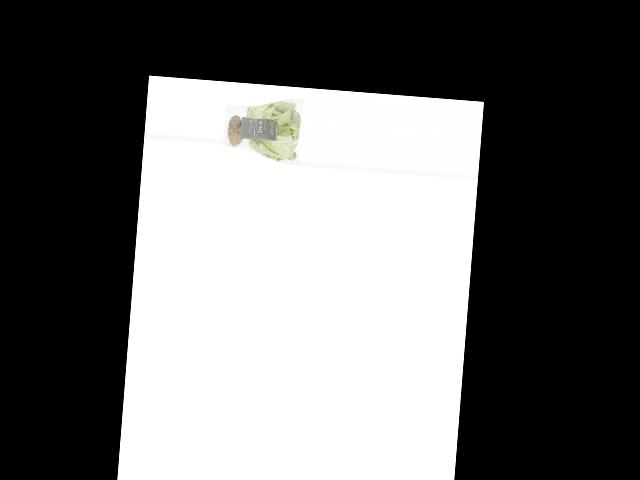lettuce: (221, 93, 303, 165)
